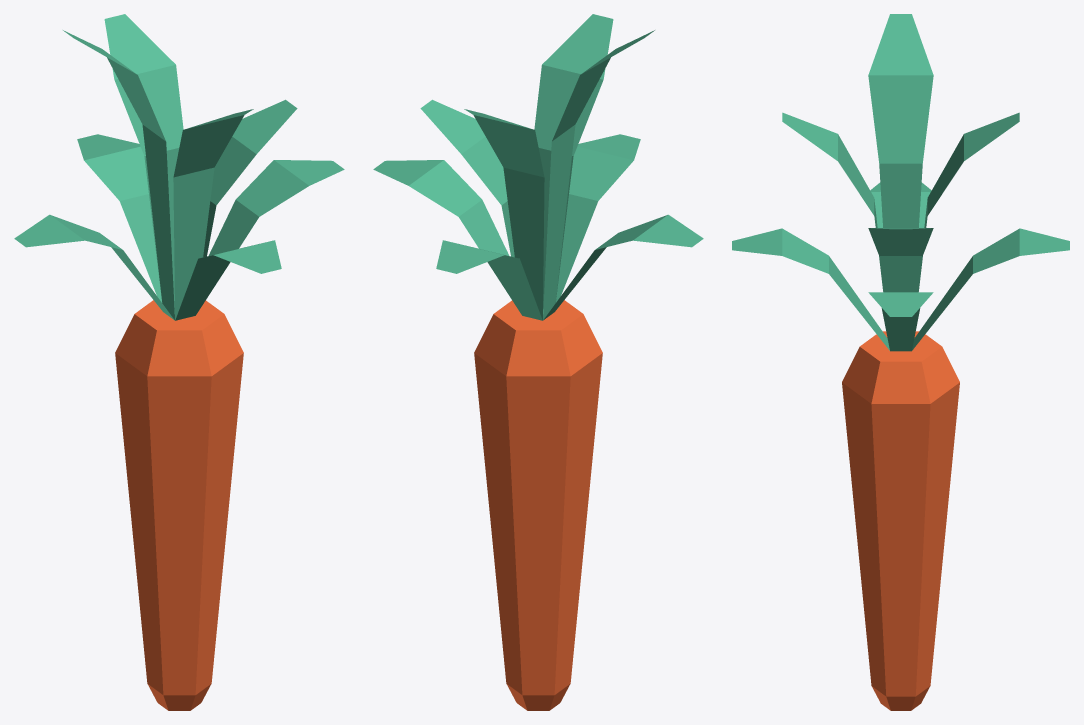
Rendered from carrot.obj.
The picture shows the model from 3 angles, left to right: view 1: azimuth 30°, elevation 25°; view 2: azimuth 150°, elevation 25°; view 3: azimuth 270°, elevation 25°; orthographic projection. The views are drawn at different scales.
Parts seen in each view (by area): view 1: carrot; view 2: carrot; view 3: carrot.
Part boxes in pixels (x1,y1,x2,y2): carrot: [14, 14, 344, 710]; carrot: [373, 14, 703, 710]; carrot: [732, 14, 1069, 710].
Bounding box in the file's own units: 0.3431 × 0.7163 × 0.3431.
